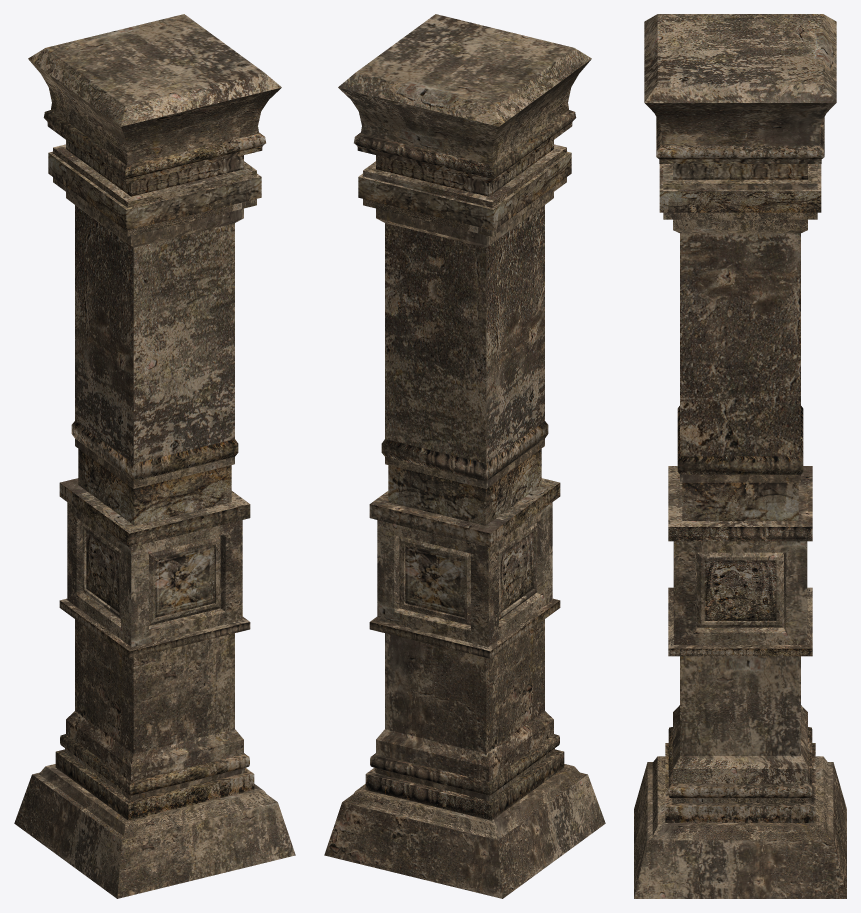
Rendered from materials_5_pillar_long_0.fbx.
3 renders of one model, left to right at view 1: azimuth 30°, elevation 25°; view 2: azimuth 150°, elevation 25°; view 3: azimuth 270°, elevation 25°, orthographic. The views are drawn at different scales.
Parts seen in each view (by area): view 1: materials_5_pillar_long_0; view 2: materials_5_pillar_long_0; view 3: materials_5_pillar_long_0.
Part boxes in pixels (x1,y1,x2,y2): materials_5_pillar_long_0: [14, 14, 295, 898]; materials_5_pillar_long_0: [324, 14, 605, 898]; materials_5_pillar_long_0: [634, 14, 846, 898].
Bounding box in the file's own units: 65.35 × 273 × 65.35.
